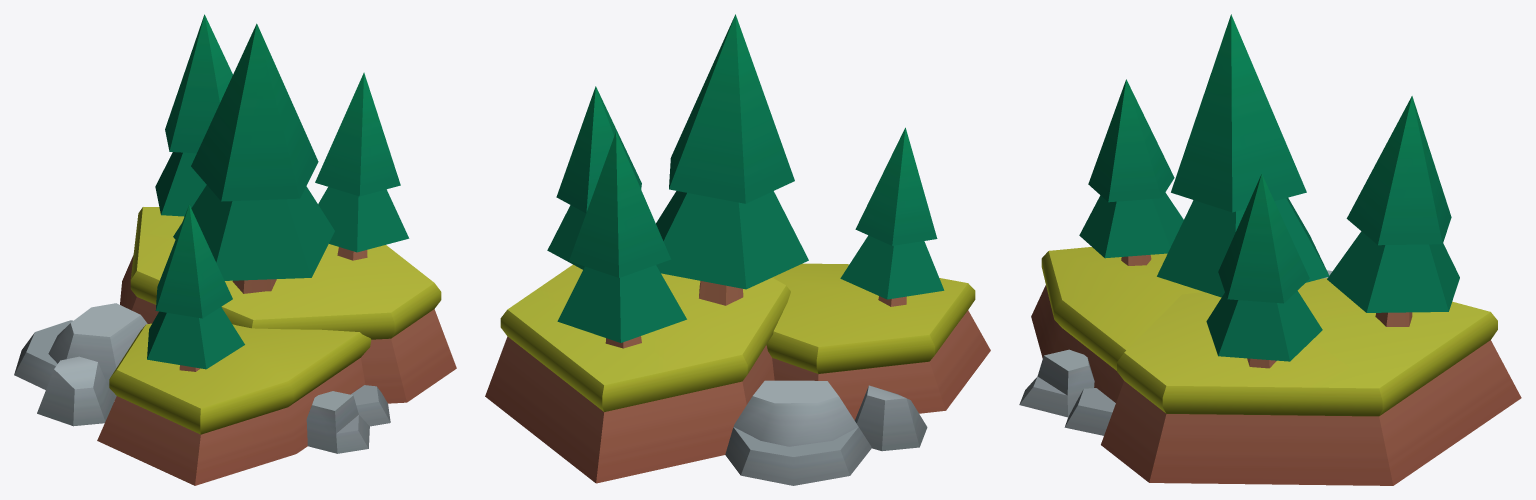
File: hills_b_trees.glb
The picture shows the model from 3 angles, left to right: view 1: azimuth 30°, elevation 25°; view 2: azimuth 150°, elevation 25°; view 3: azimuth 270°, elevation 25°; orthographic projection. The views are drawn at different scales.
Parts seen in each view (by area): view 1: hills_B_trees; view 2: hills_B_trees; view 3: hills_B_trees.
Boxes of the visible parts, box(x1,y1,x2,y2) form: hills_B_trees: box(14, 14, 456, 485); hills_B_trees: box(485, 14, 990, 485); hills_B_trees: box(1019, 14, 1521, 485).
Size of the model in its own units: 1.47 by 1.37 by 1.62.
Materials: 1 (1 with a texture image).
